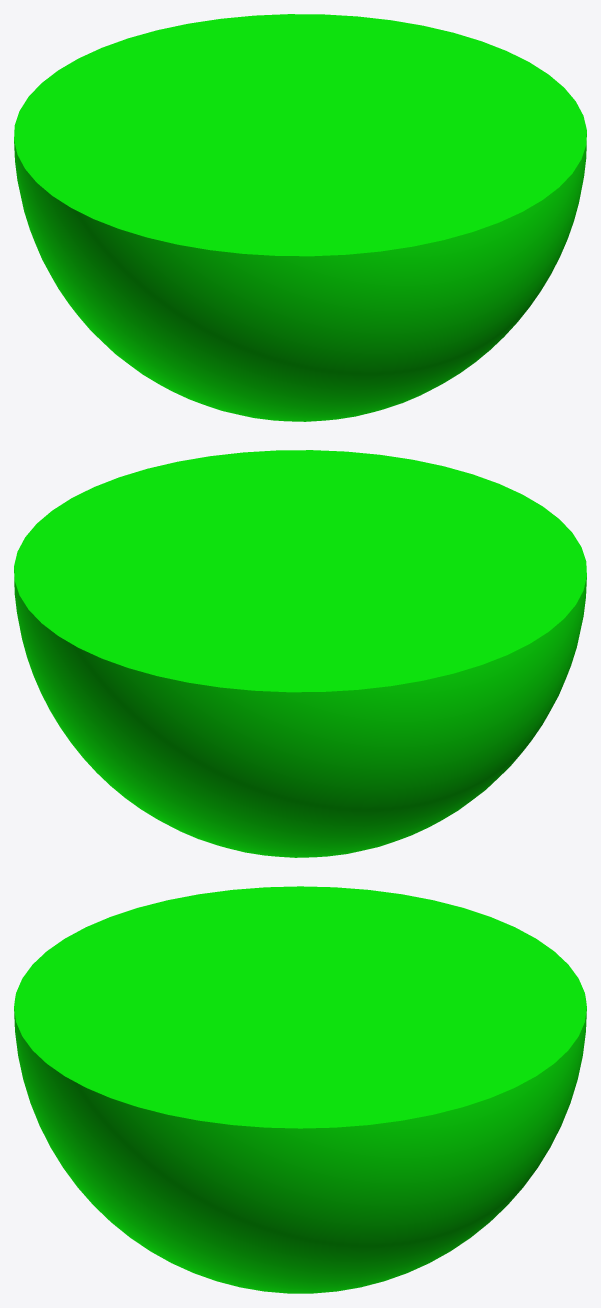
The model's file is green_led.dae.
3 renders of one model, top to bottom at view 1: azimuth 30°, elevation 25°; view 2: azimuth 150°, elevation 25°; view 3: azimuth 270°, elevation 25°, orthographic.
Parts seen in each view (by area): view 1: Body_1; view 2: Body_1; view 3: Body_1.
Part boxes in pixels (x1,y1,x2,y2): Body_1: (14, 14, 586, 421); Body_1: (14, 450, 586, 857); Body_1: (14, 886, 586, 1293).
Size of the model in its own units: 0.0419 by 0.0419 by 0.0209.
